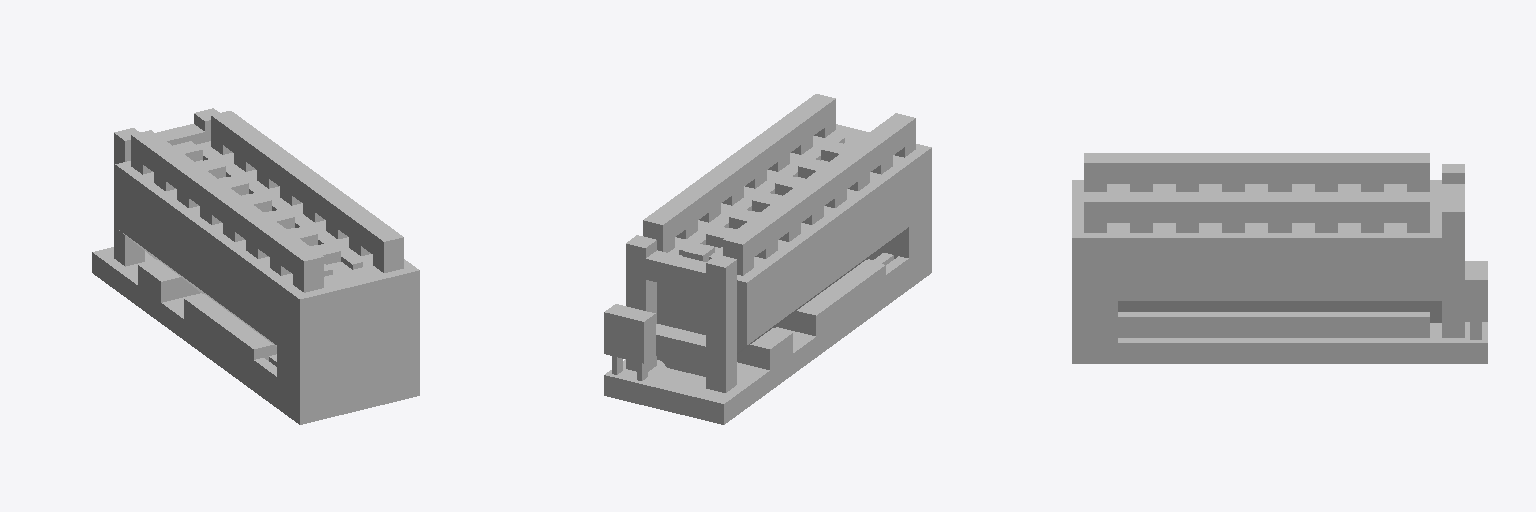
File: electrolytic_crucible_battery_mirrored.obj
The picture shows the model from 3 angles: view 1: azimuth 30°, elevation 25°; view 2: azimuth 150°, elevation 25°; view 3: azimuth 270°, elevation 25°; orthographic projection.
Visible parts, largest first — view 1: electrolytic_crucible_battery; view 2: electrolytic_crucible_battery; view 3: electrolytic_crucible_battery.
Boxes of the visible parts, x1=… form: electrolytic_crucible_battery: x1=92, y1=108, x2=419, y2=424; electrolytic_crucible_battery: x1=604, y1=94, x2=931, y2=424; electrolytic_crucible_battery: x1=1072, y1=153, x2=1487, y2=363.
Bounding box in the file's own units: 3 × 3.75 × 9.